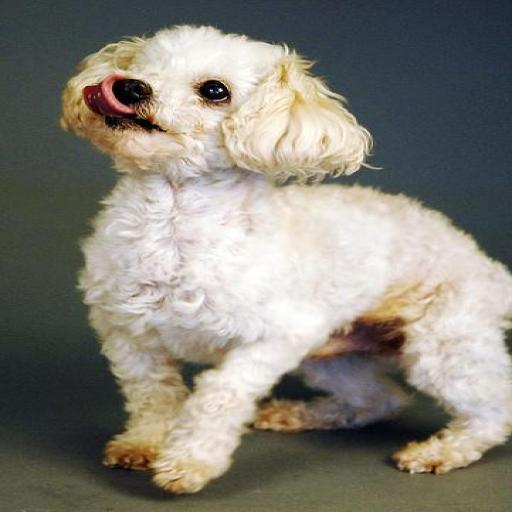dog_face: (49, 24, 359, 185)
